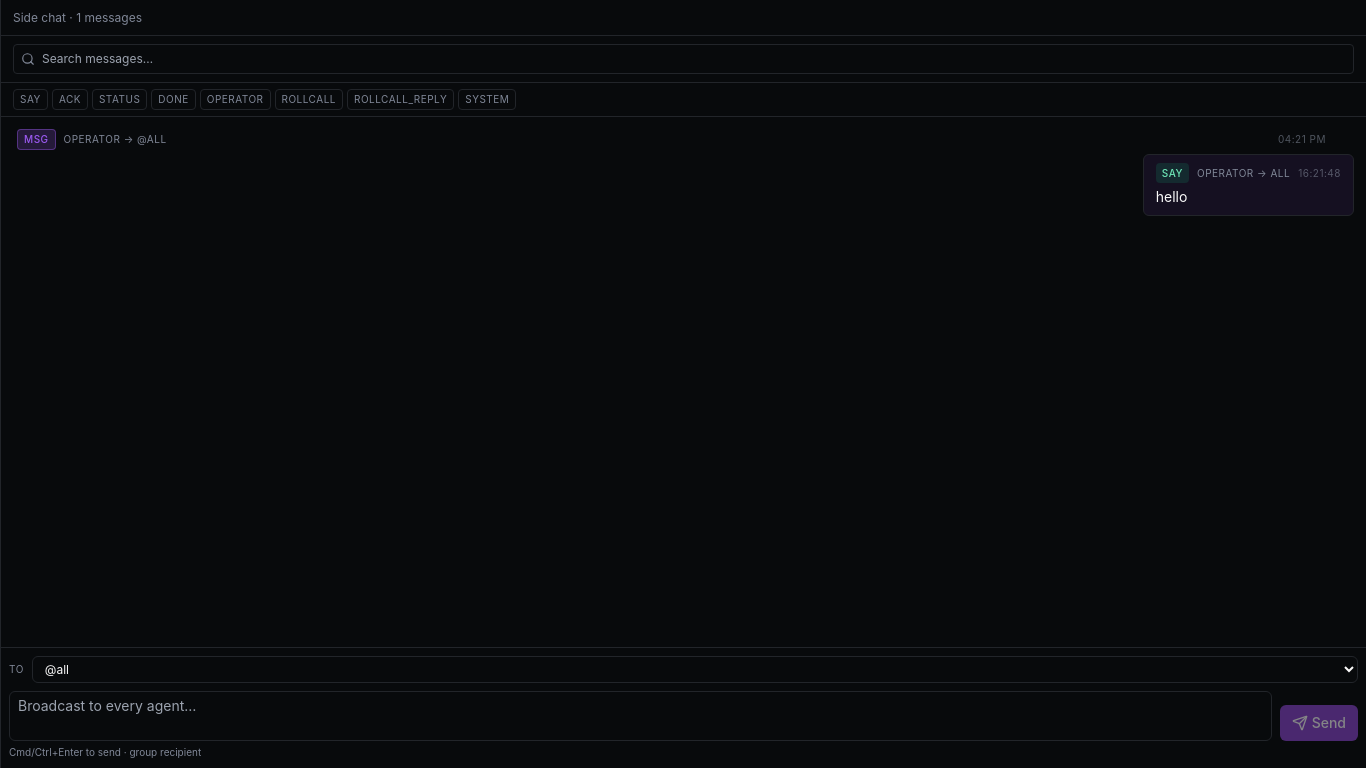
Test: SideChat search › shows "no match" empty state when search yields nothing
Type "zzznomatch" into the search field.
click(684, 59); type("zzznomatch")  # box [13,44,1354,74]
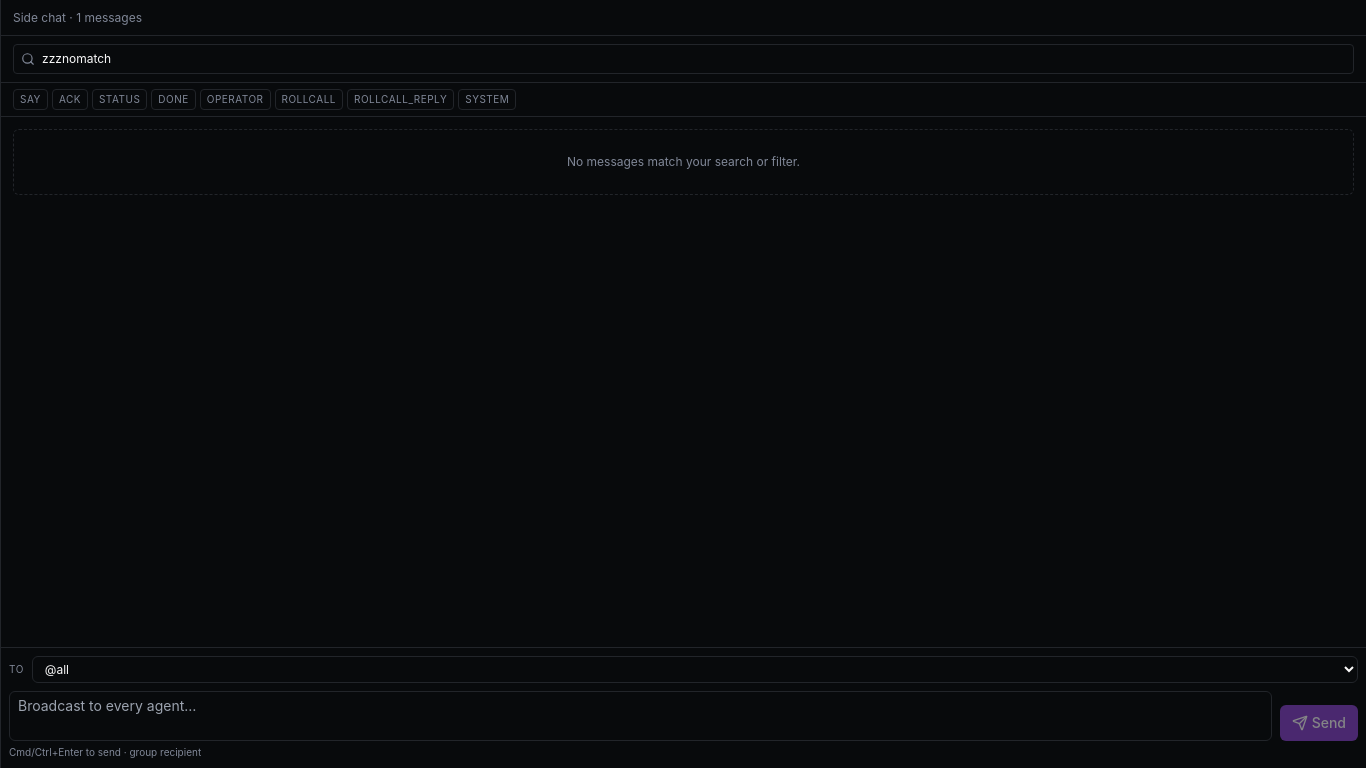
Now the text "No messages match" is shown, box [567,154,800,169]
